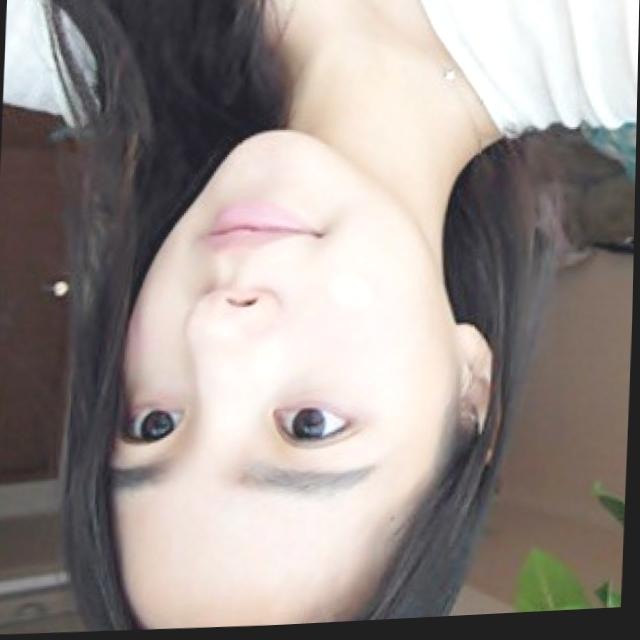face: (98, 125, 455, 613)
